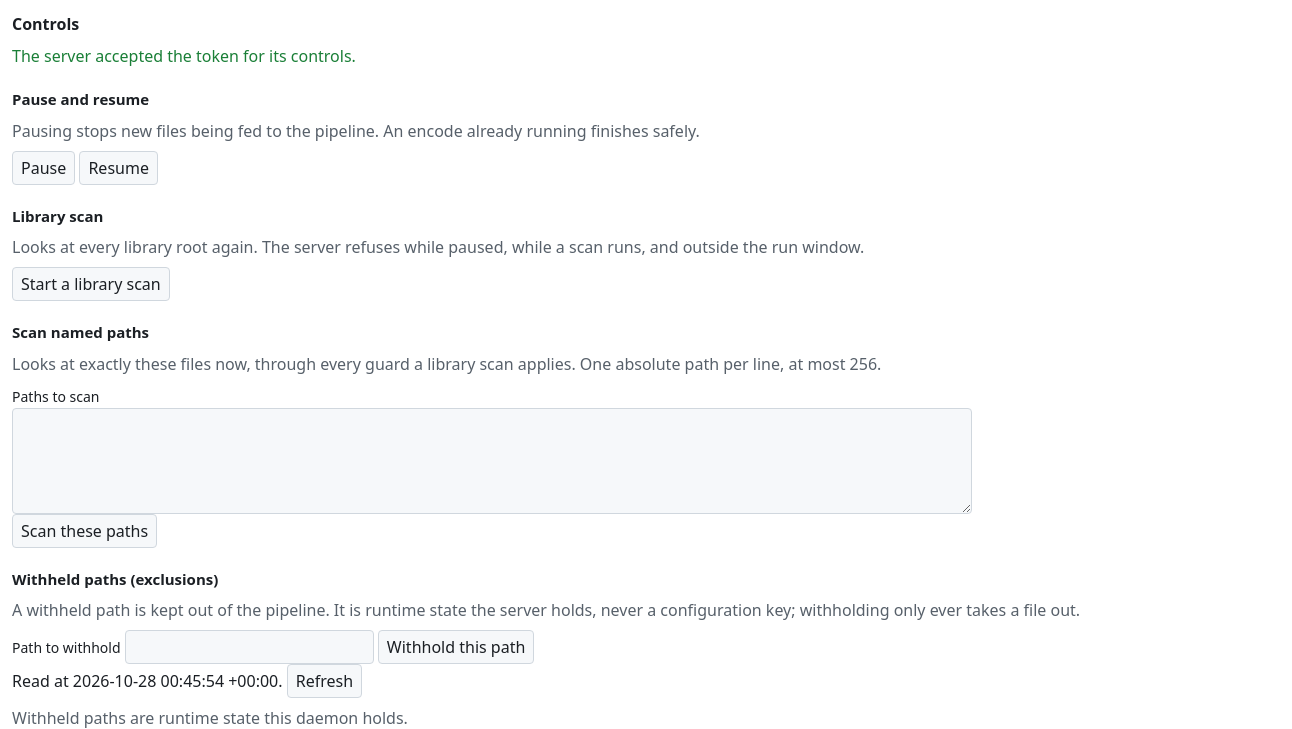
controls › controls: start a library scan sends POST /api/rescan and says a scan started only when told so
Check: the text "The server accepted the token for its controls." is shown, box x1=12 y1=45 x2=356 y2=67
Click the button "Start a library scan" at (91, 284), box x1=12 y1=267 x2=170 y2=301
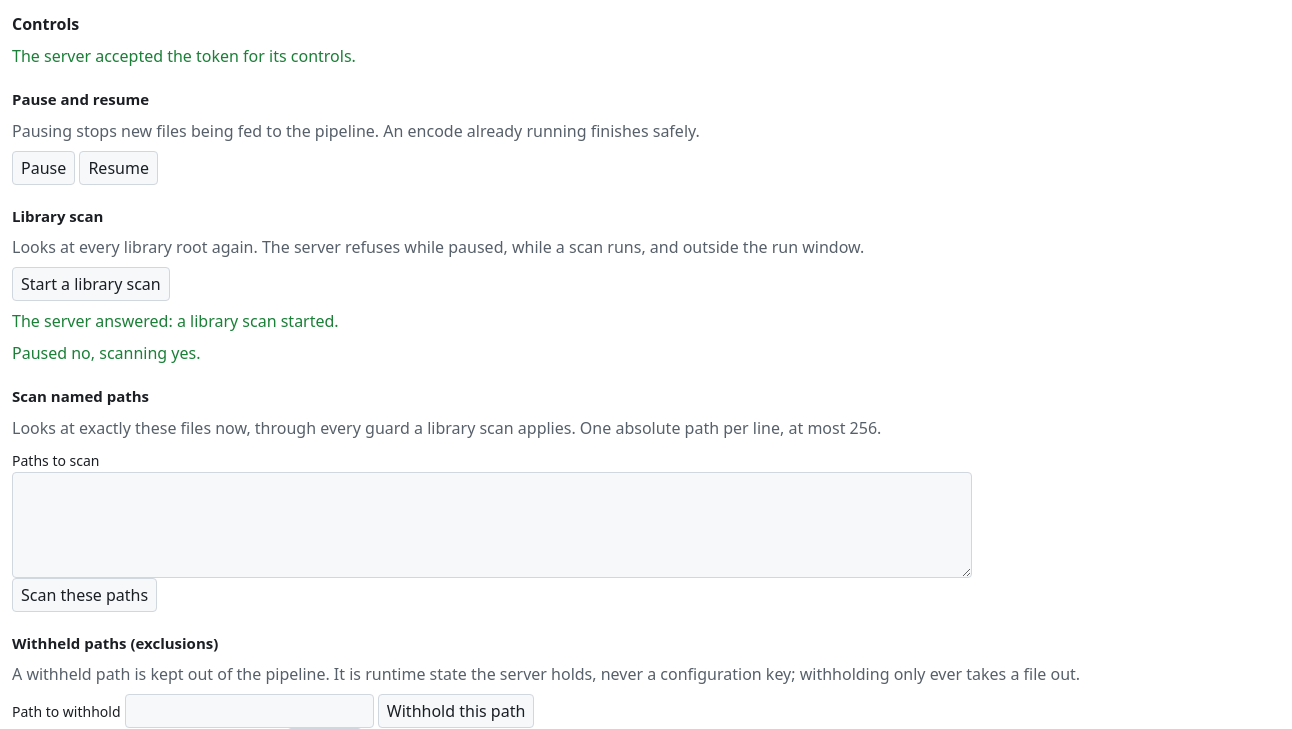
Check: the text "The server answered: a library scan started." is shown, box x1=12 y1=310 x2=339 y2=332
Check: the text "Paused no, scanning yes." is shown, box x1=12 y1=342 x2=200 y2=364
